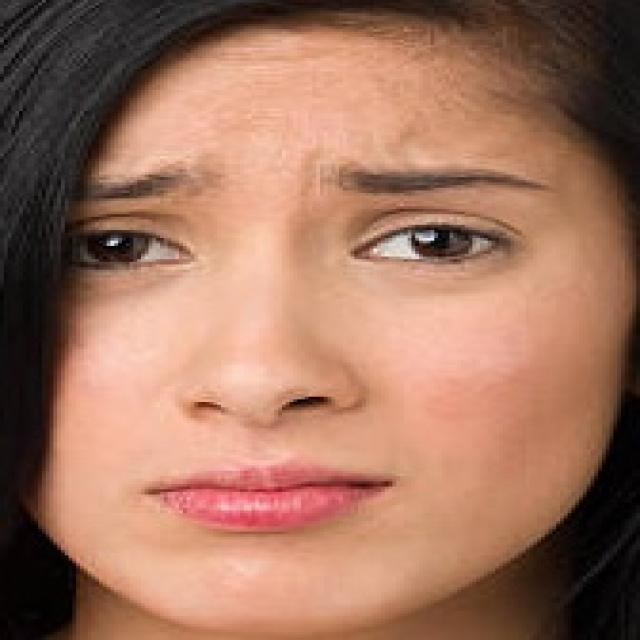Anxiety: (33, 30, 636, 633)
